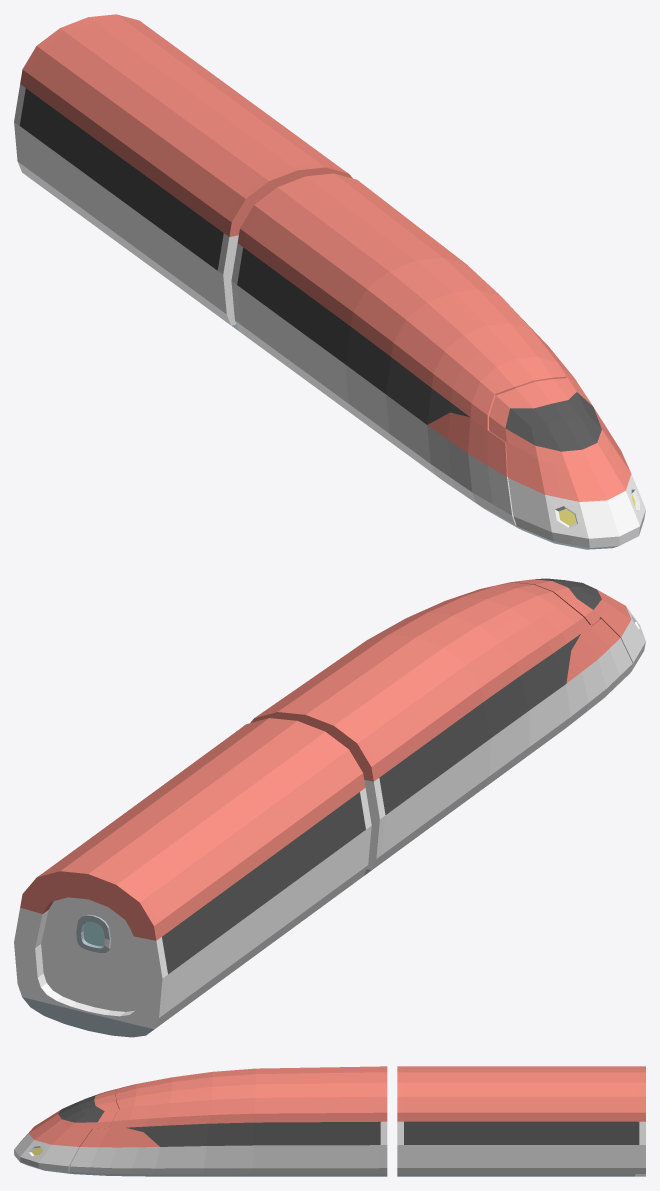
File: bullet_poly.glb
The picture shows the model from 3 angles, top to bottom: view 1: azimuth 30°, elevation 25°; view 2: azimuth 150°, elevation 25°; view 3: azimuth 270°, elevation 25°; orthographic projection. The views are drawn at different scales.
Parts seen in each view (by area): view 1: Object_4, Object_5, Object_7; view 2: Object_4, Object_5, Object_7, Object_6; view 3: Object_4, Object_5, Object_7, Object_6.
Part boxes in pixels (x1,y1,x2,y2): Object_4: (20,14,631,501); Object_5: (14,84,645,547); Object_7: (19,88,601,451); Object_4: (20,579,631,940); Object_5: (14,606,645,1029); Object_7: (162,578,601,974); Object_6: (22,869,371,1037); Object_4: (29,1066,645,1147); Object_5: (14,1121,645,1176); Object_7: (58,1093,639,1146); Object_6: (22,1163,634,1176).
Size of the model in its own units: 2.78 by 2.81 by 17.26.
